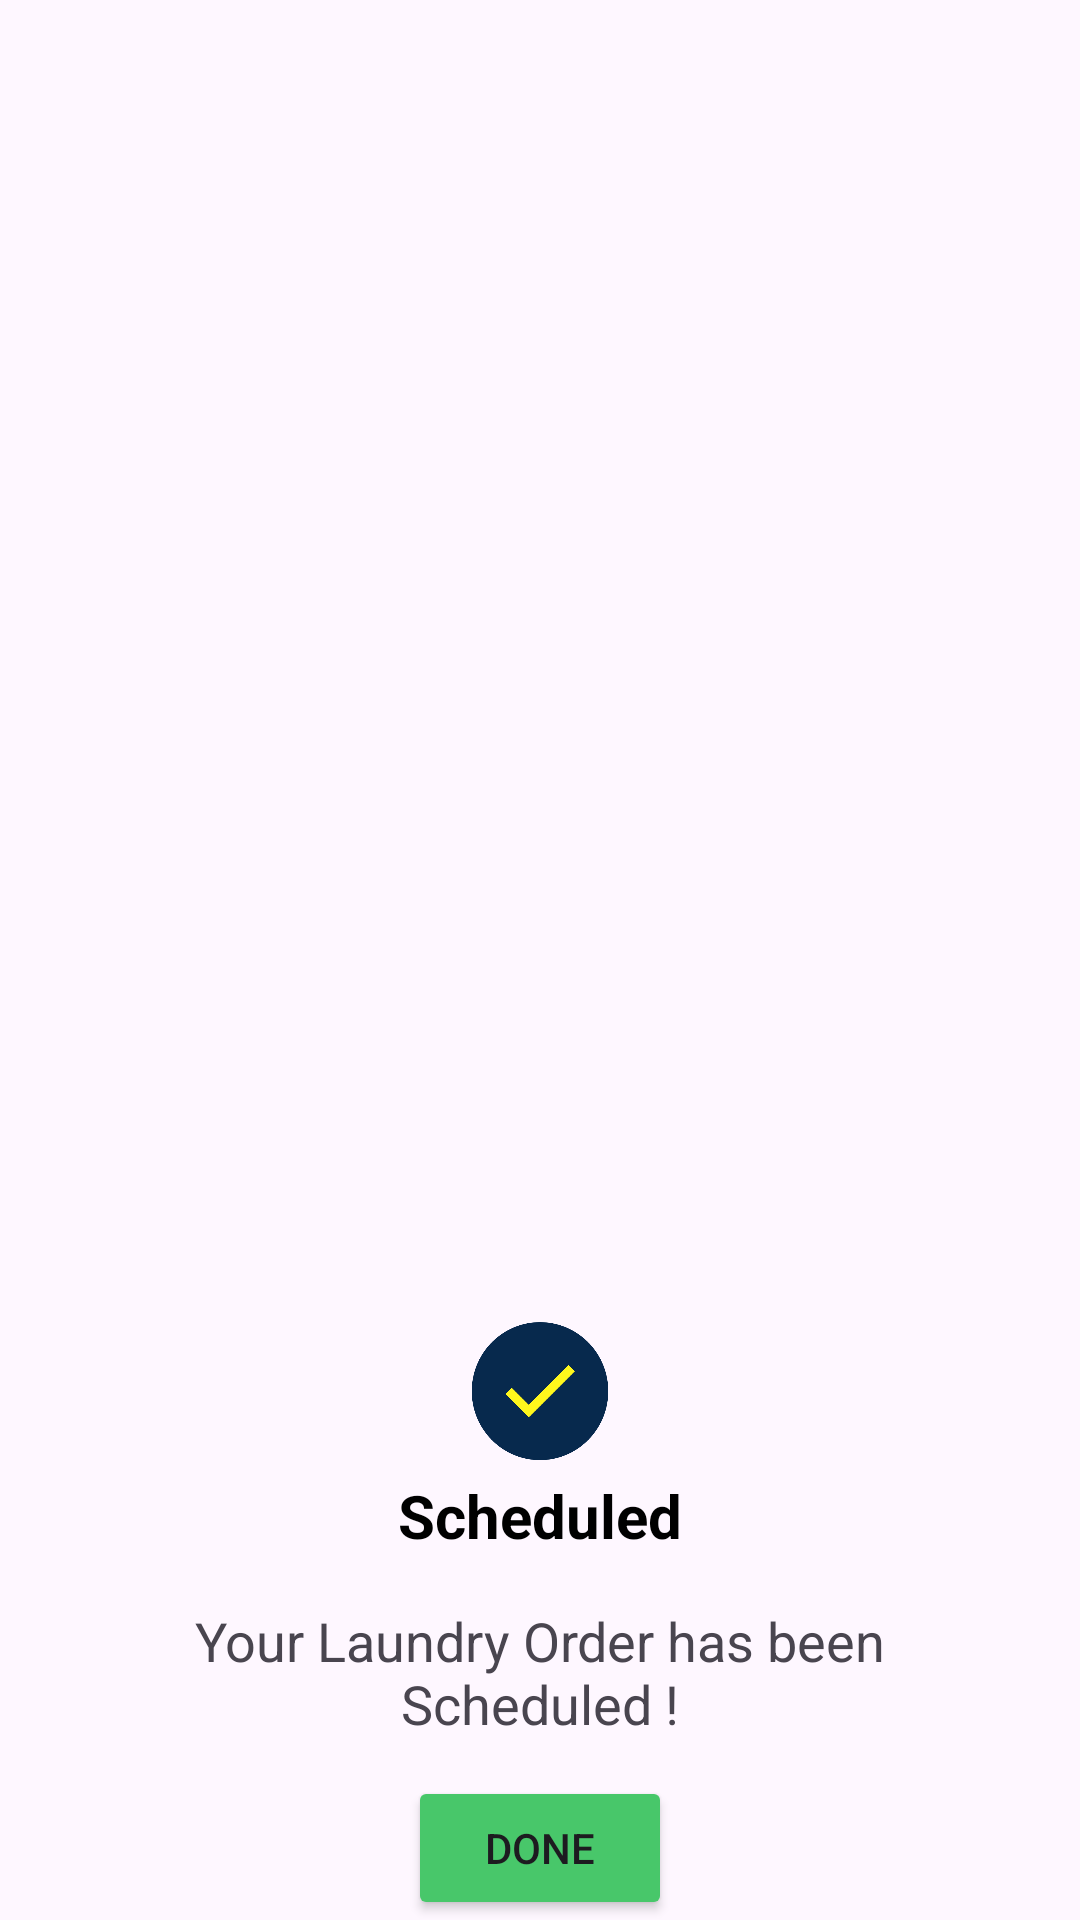

Icons on this 1080px x 1920px Android screen, each with its box as BBox(x1, y1, x2, y2):
success: BBox(472, 1322, 608, 1460)
